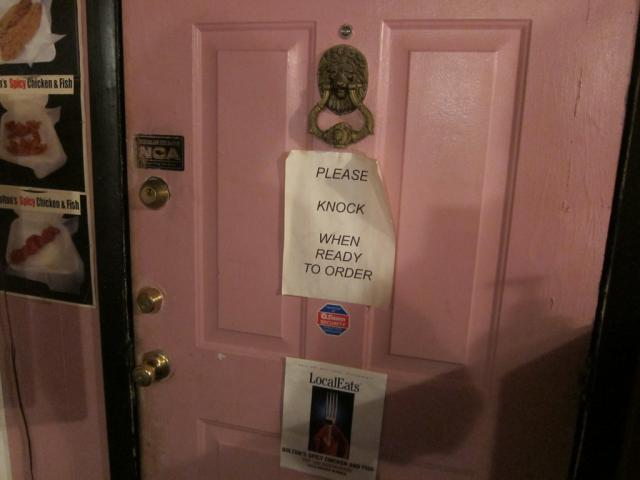Door-handle: (307, 42, 374, 150), (130, 346, 174, 386)
